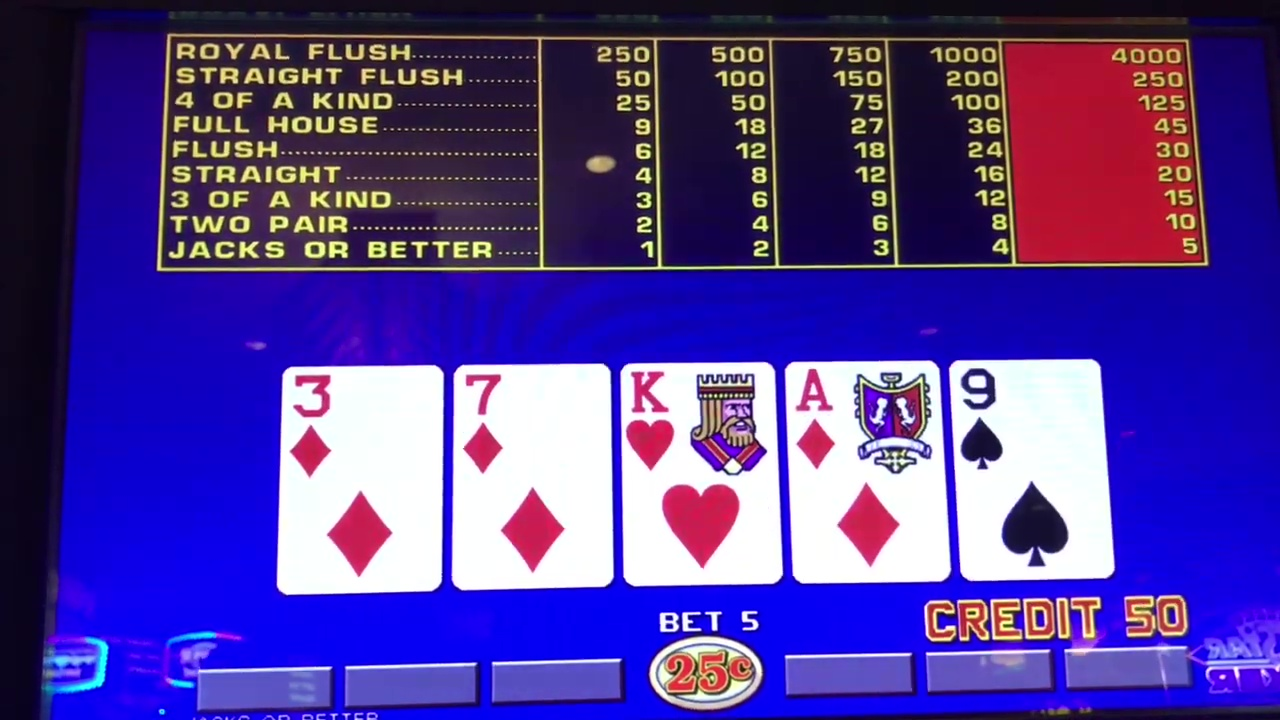D3: (281, 366, 442, 489)
D7: (456, 363, 609, 484)
DA: (788, 359, 943, 480)
HK: (622, 364, 781, 484)
S9: (957, 362, 1102, 482)
